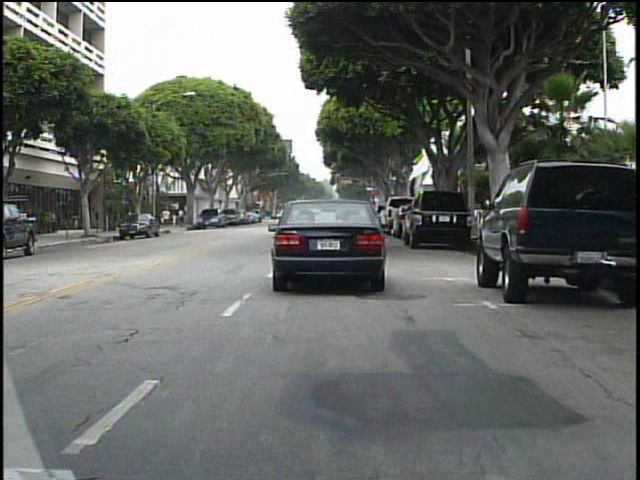person: (160, 205, 174, 231), (177, 203, 189, 229)
